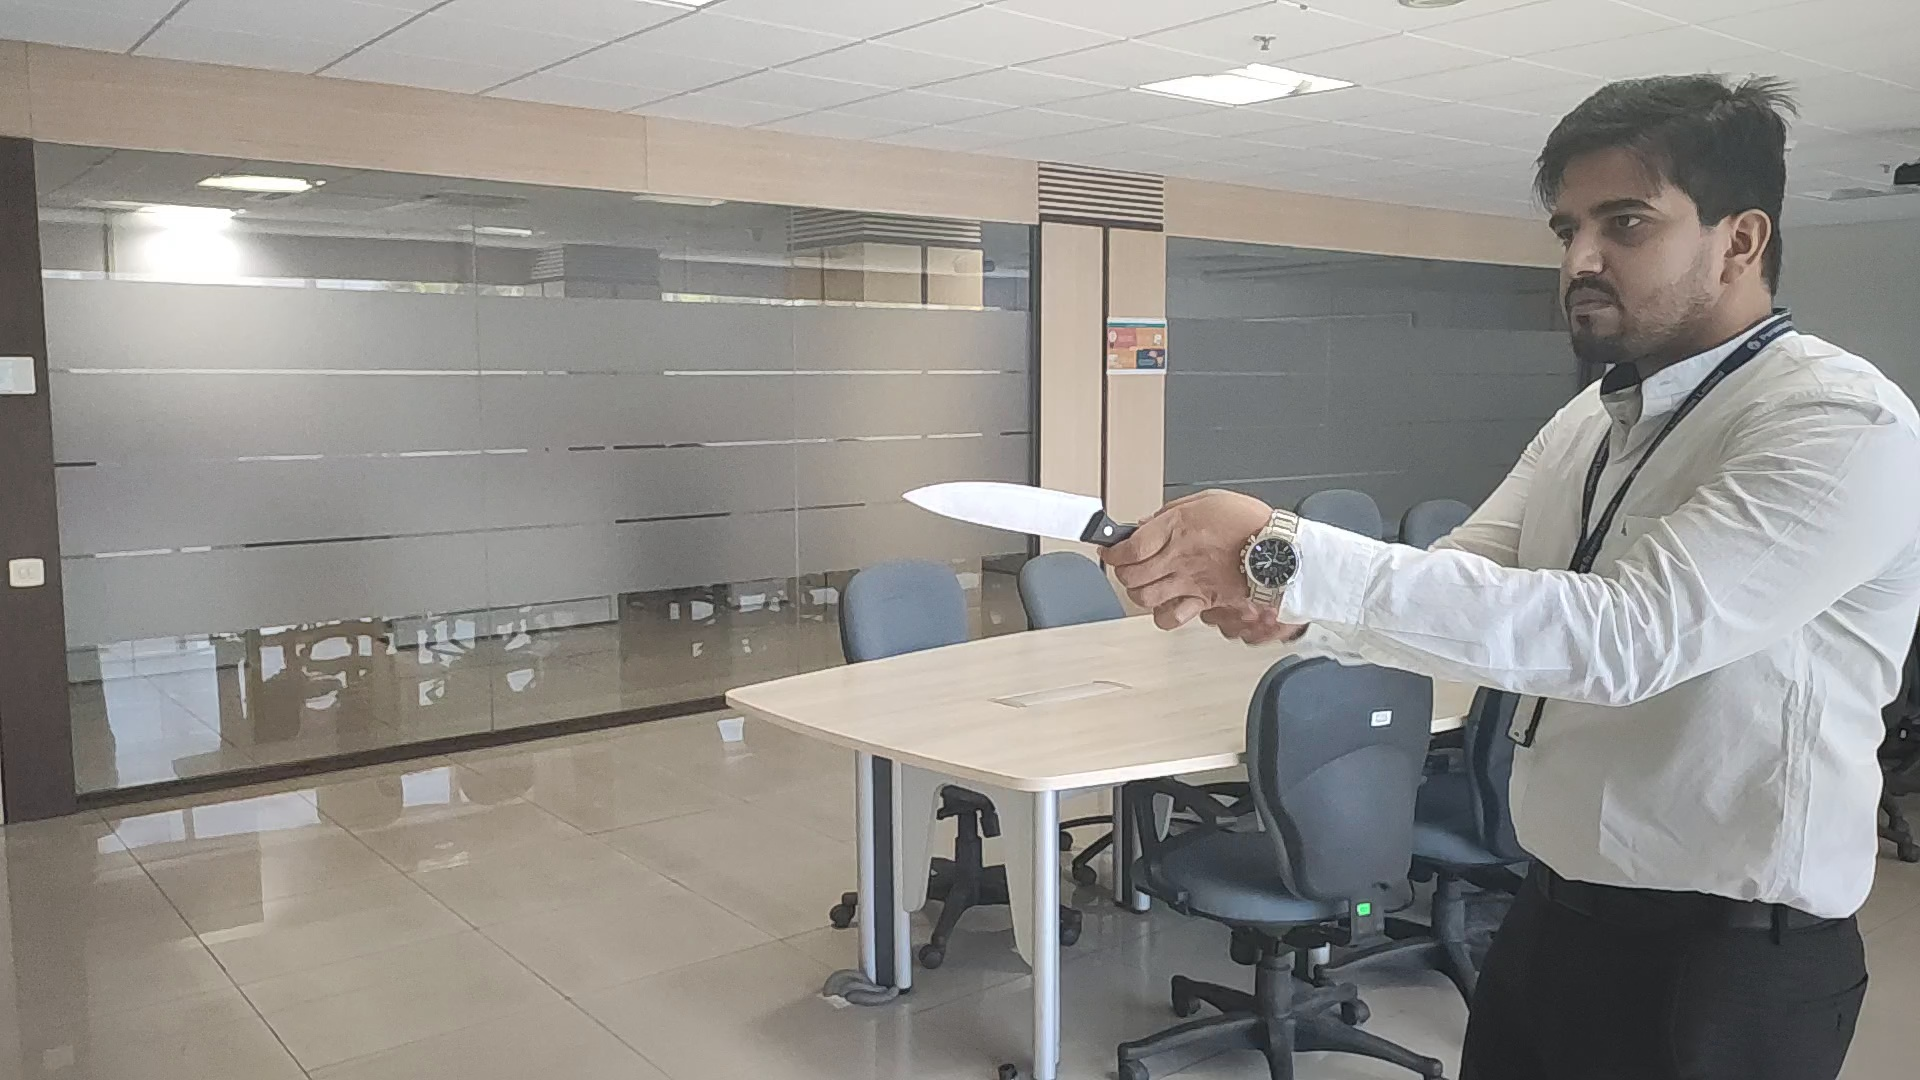knife: (901, 476, 1135, 546)
